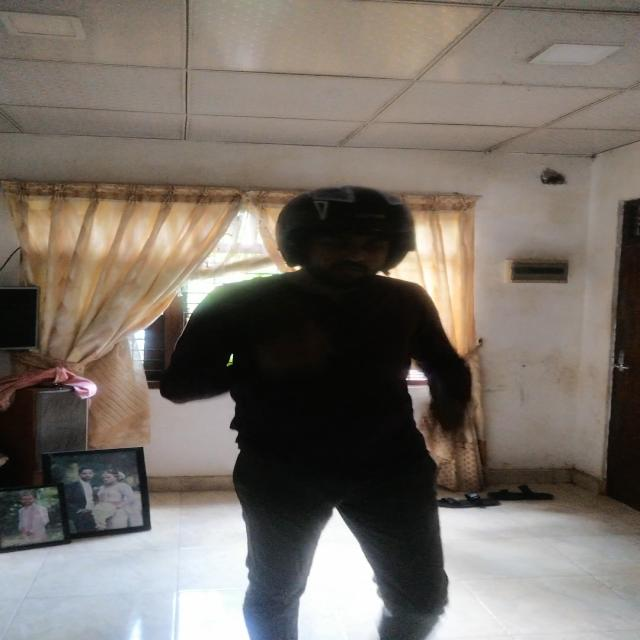Helmet_Wearer: (222, 182, 418, 294)
Person: (150, 176, 484, 640)
